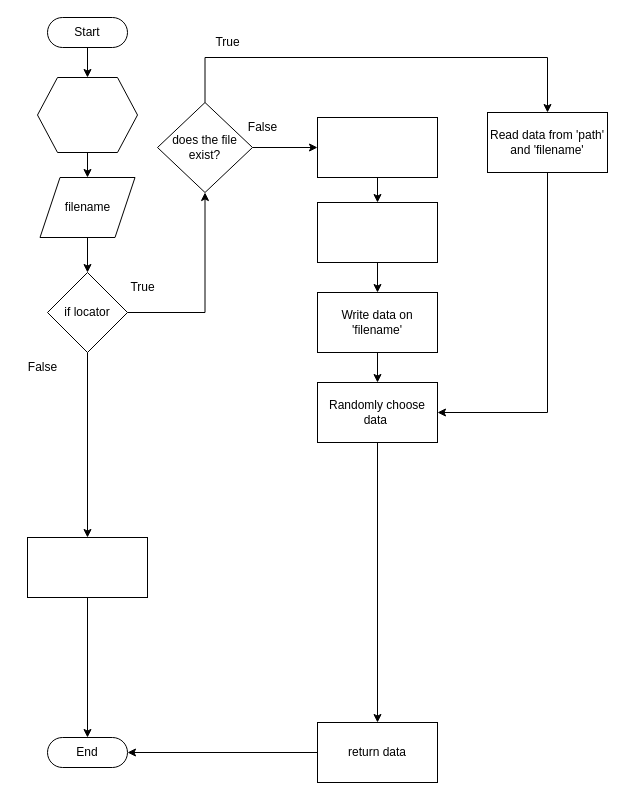
This 625x800 diagram has some shape labels left out. The centre of each missing label's shape, as x and y in pixels:
Create file using 'filename': (377,232)
Find and Scrape date on locator: (377,147)
locator, locatorType,: (87,114)
throw exception print("details"): (87,567)
